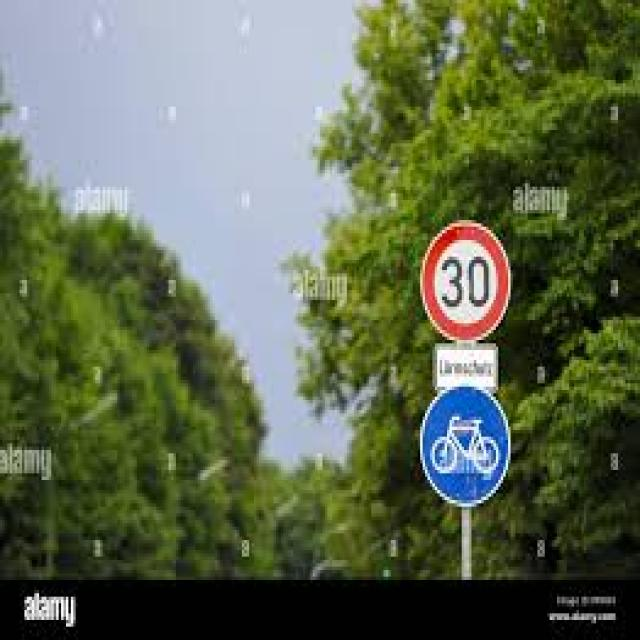speed_30: (424, 218, 512, 344)
